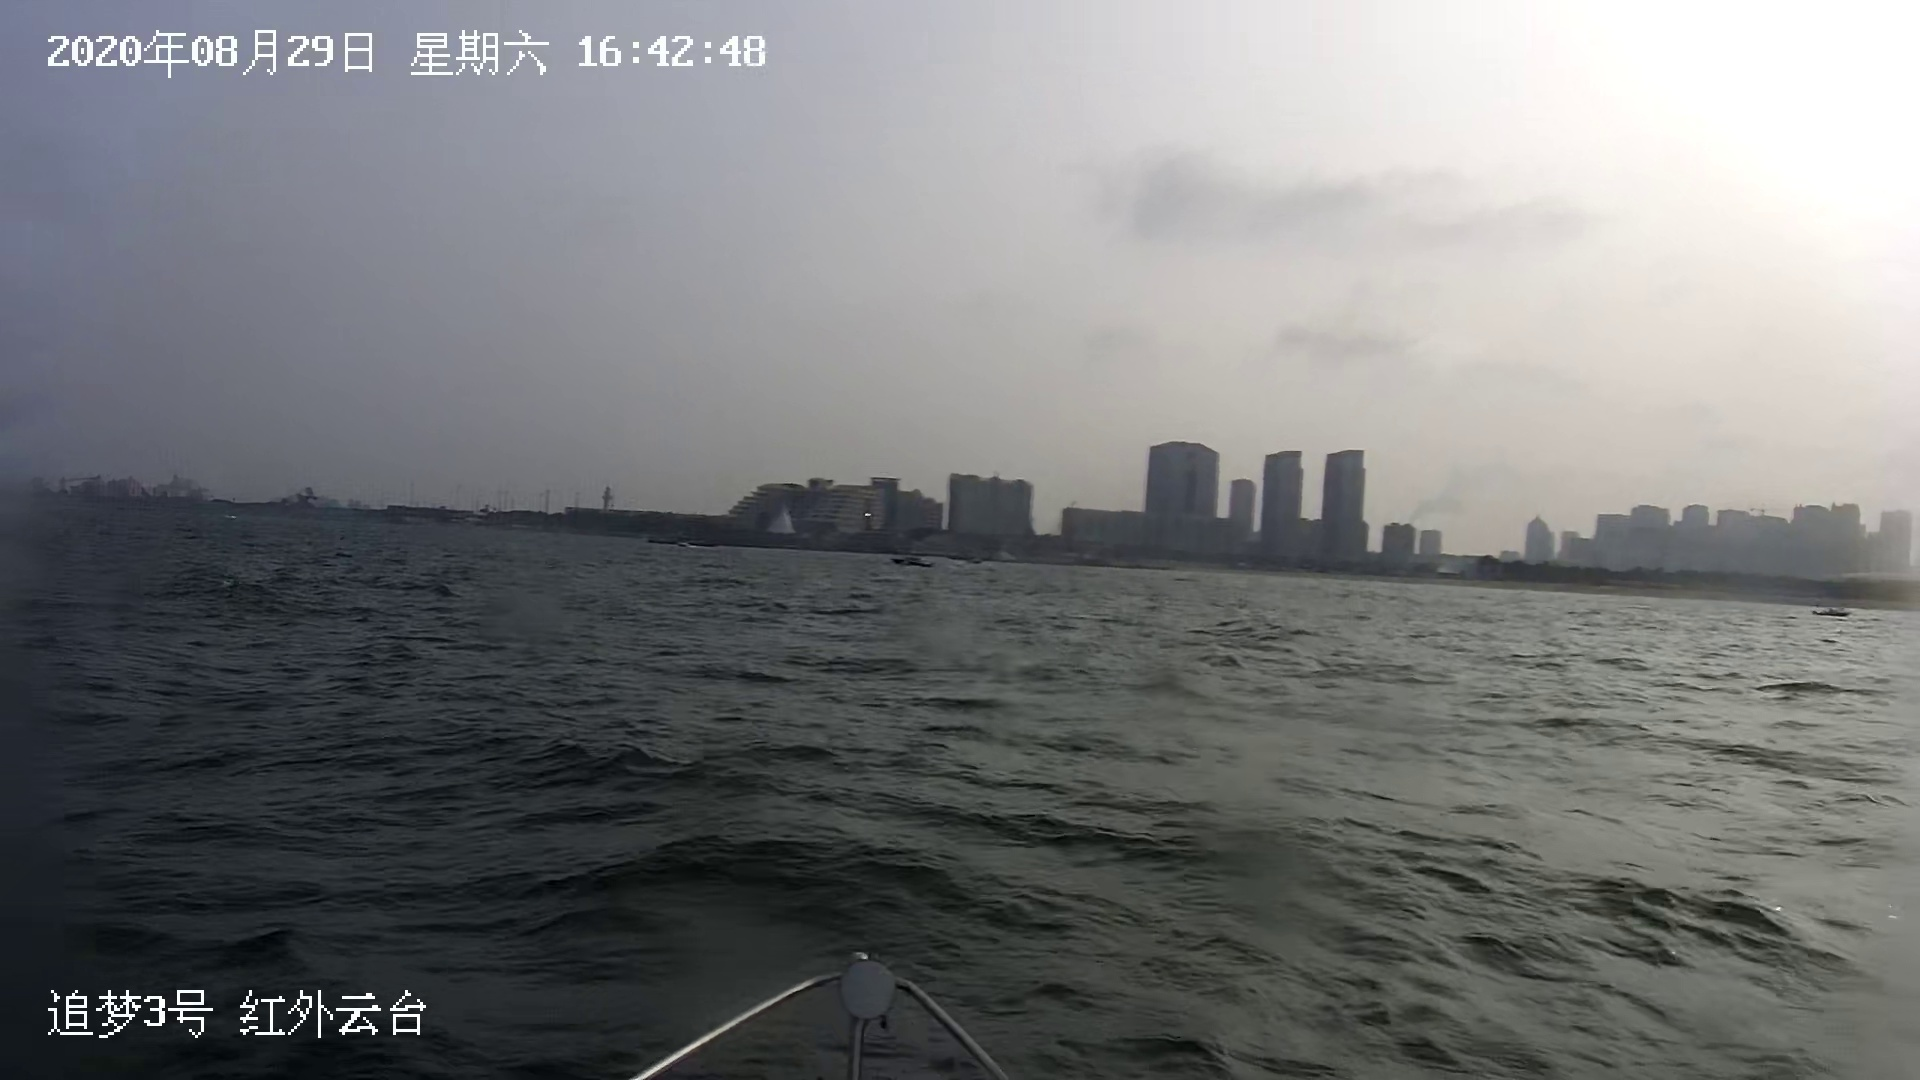barrier: (1805, 605, 1857, 620), (891, 555, 934, 572)
coast: (8, 443, 1920, 616)
